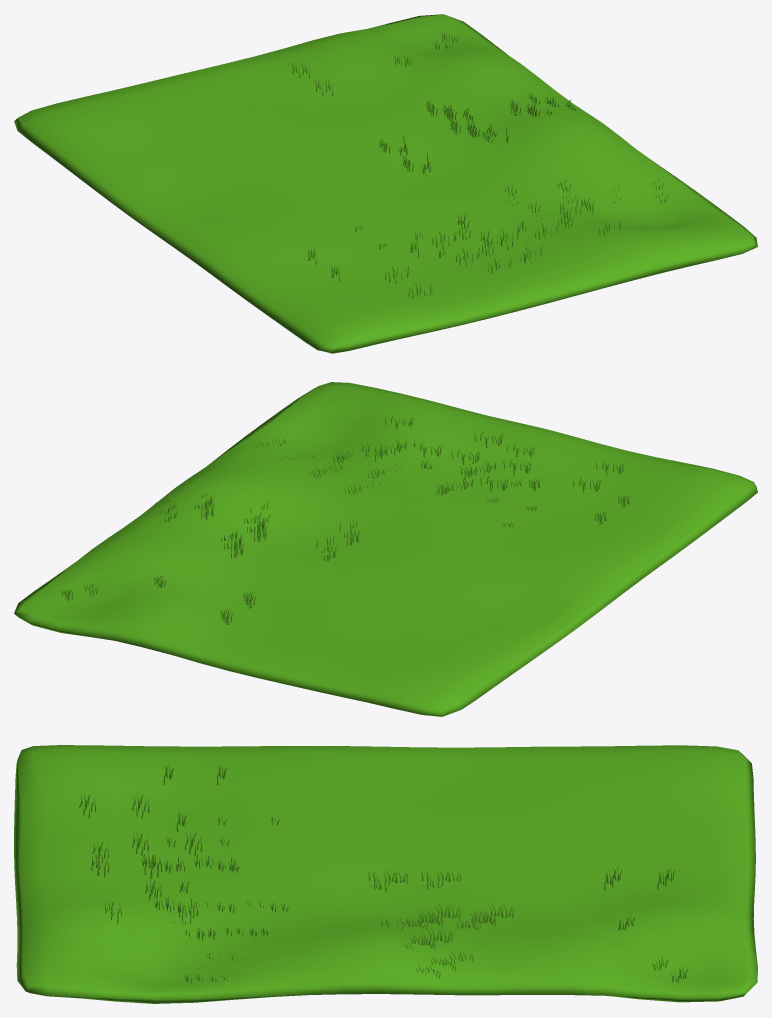
Rendered from PastoPrimavera.fbx.
3 renders of one model, top to bottom at view 1: azimuth 30°, elevation 25°; view 2: azimuth 150°, elevation 25°; view 3: azimuth 270°, elevation 25°, orthographic. The views are drawn at different scales.
Parts seen in each view (by area): view 1: Plane.005; view 2: Plane.005; view 3: Plane.005.
Part boxes in pixels (x1,y1,x2,y2): Plane.005: (14,14,757,353); Plane.005: (14,382,757,716); Plane.005: (14,745,757,1003).
Size of the model in its own units: 3548 by 353 by 4455.
